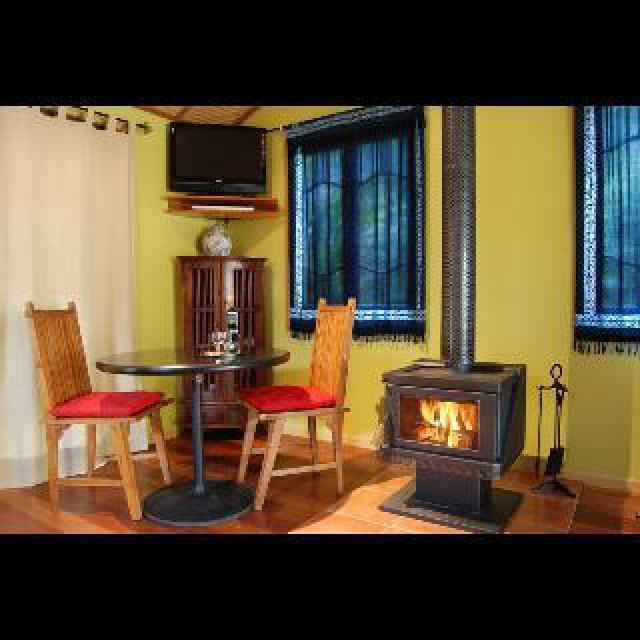Fire: (398, 394, 480, 448)
